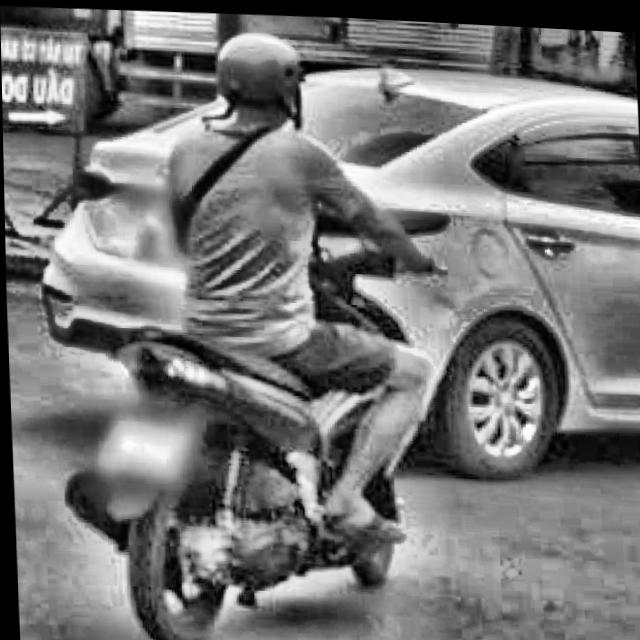motorcycle: (32, 166, 480, 640)
